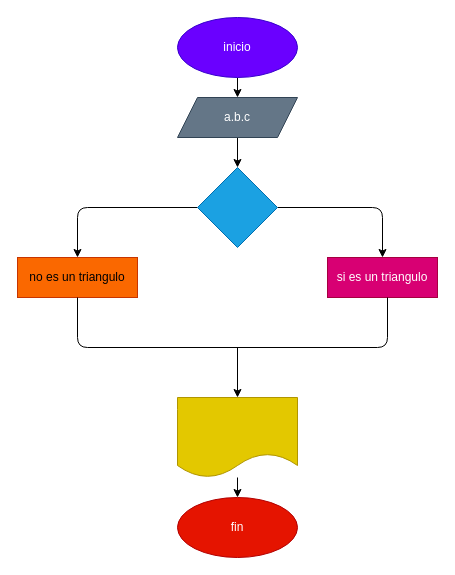
Some shapes in this 455 by 575 pixel diagram are drawn without their labels. The centre of each missing label's shape, as x and y in pixels:
a+b>c b+c>a c+a>b: (x=237, y=207)
cumple: (x=237, y=437)
